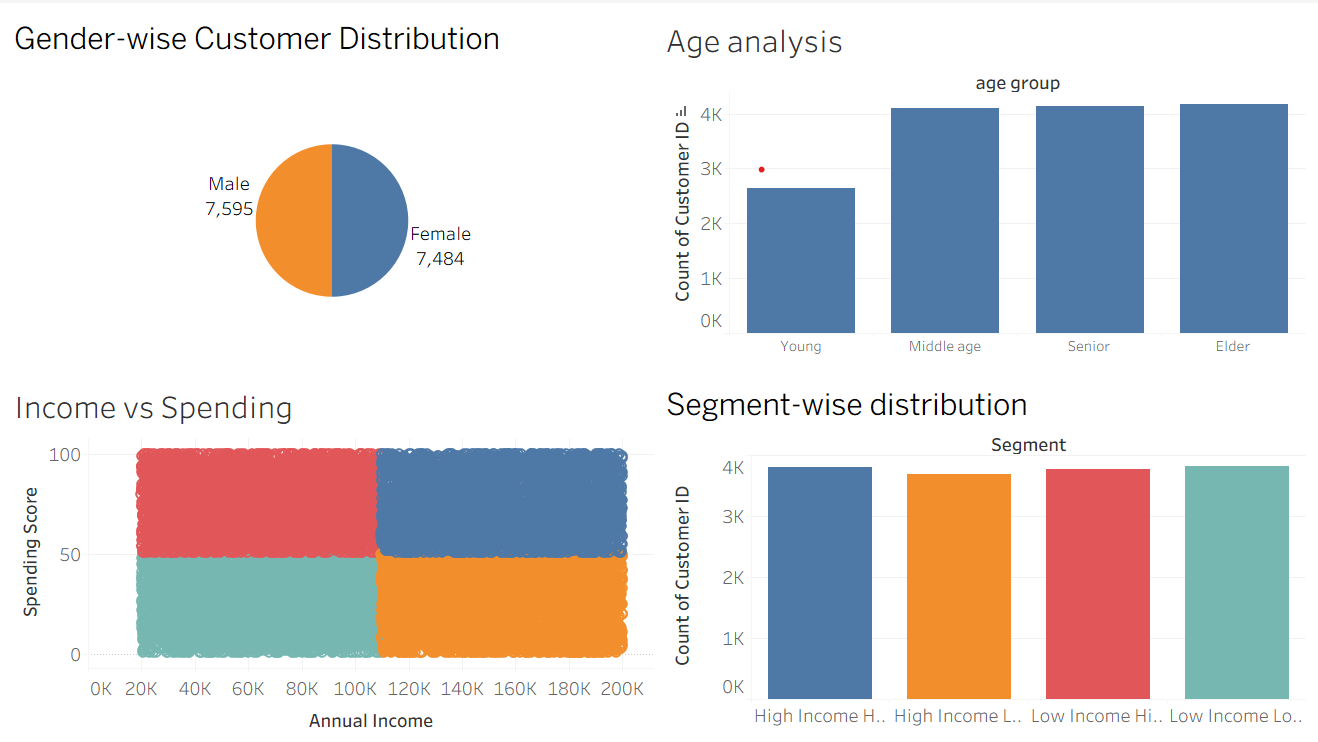

Layout of this report page (visuals, bound fields, positions):
{"tool":"tableau","page":{"name":"Shopping Mall Customer Segmentation Dashboard","canvas":[1000,1000],"units":"permille","ordinal":0},"visuals":[{"type":"worksheet","title":"Gender Distribution","mark":"Pie","box":[6.1,10.7,493.9,489.3]},{"type":"worksheet","title":"Age-wise analysis","mark":"Bar","rows":["Customer ID"],"cols":["Calculation_509188297681301505"],"box":[500,10.7,493.9,489.3]},{"type":"worksheet","title":"Income vs Spending","mark":"Automatic","rows":["Spending Score"],"cols":["Annual Income"],"box":[6.1,500,493.9,489.3]},{"type":"worksheet","title":"Segment Distribution","mark":"Automatic","rows":["Customer ID"],"cols":["segment"],"box":[500,500,493.9,489.3]}]}

Visuals, with their boxes on the dashboard's canvas, which has no fixed pixel size, in thousandths of its width and height (x1, y1, x2, y2). These are canvas units, not pixel positions in the 1318x742 screenshot, which may show the page scaled, cropped or inside an application window:
"Gender Distribution" worksheet (Pie marks): box(6, 11, 500, 500)
"Age-wise analysis" worksheet (Bar marks): box(500, 11, 994, 500)
"Income vs Spending" worksheet: box(6, 500, 500, 989)
"Segment Distribution" worksheet: box(500, 500, 994, 989)
